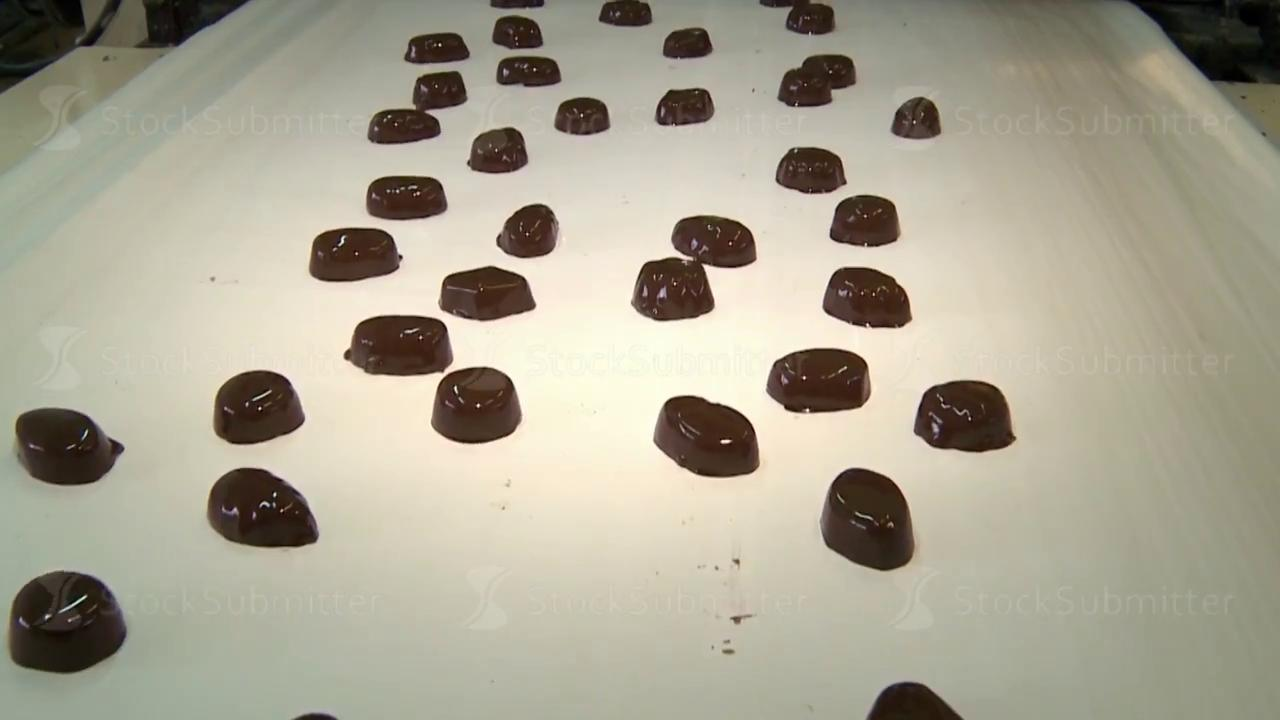chocolate: (9, 569, 126, 673), (820, 467, 914, 570), (207, 466, 318, 547), (653, 394, 759, 477), (15, 406, 123, 485), (914, 379, 1015, 452), (431, 366, 521, 443), (766, 347, 871, 413), (213, 369, 305, 444), (344, 314, 452, 375), (823, 266, 912, 328), (631, 256, 714, 320), (439, 265, 535, 320), (309, 226, 401, 281), (671, 214, 756, 268), (866, 681, 963, 719), (830, 194, 900, 246), (366, 175, 446, 219), (497, 203, 559, 257), (775, 146, 846, 193), (467, 126, 528, 173), (367, 108, 440, 144), (655, 87, 714, 126), (778, 67, 832, 107), (891, 96, 941, 139), (554, 97, 610, 135), (412, 70, 466, 108), (404, 32, 469, 63), (496, 55, 560, 86), (493, 15, 543, 49), (663, 27, 712, 58), (785, 3, 834, 34), (599, 0, 652, 26)
